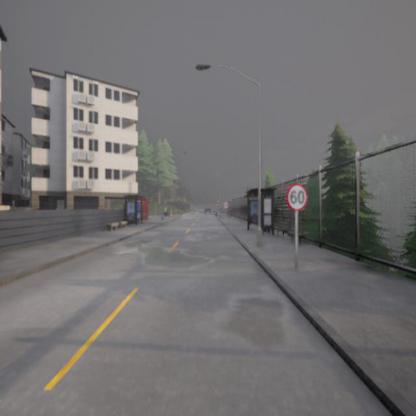traffic_sign_60: (287, 184, 308, 210)
